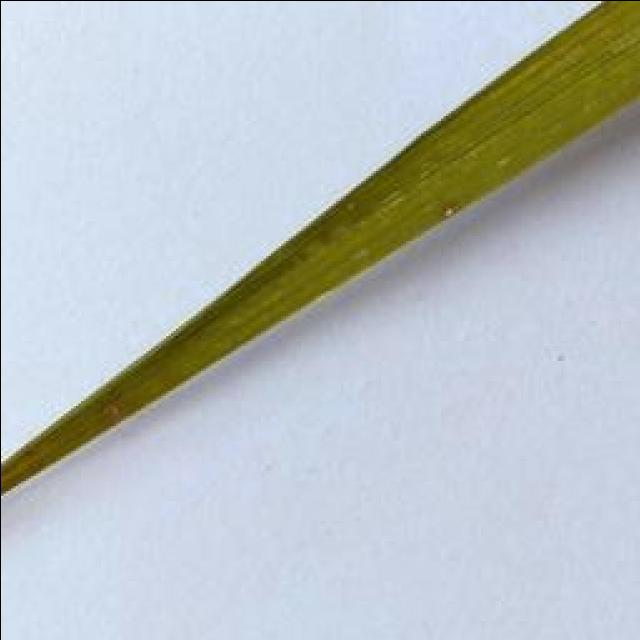Unhealthy: (0, 214, 450, 497), (108, 403, 122, 418), (442, 203, 457, 217)
